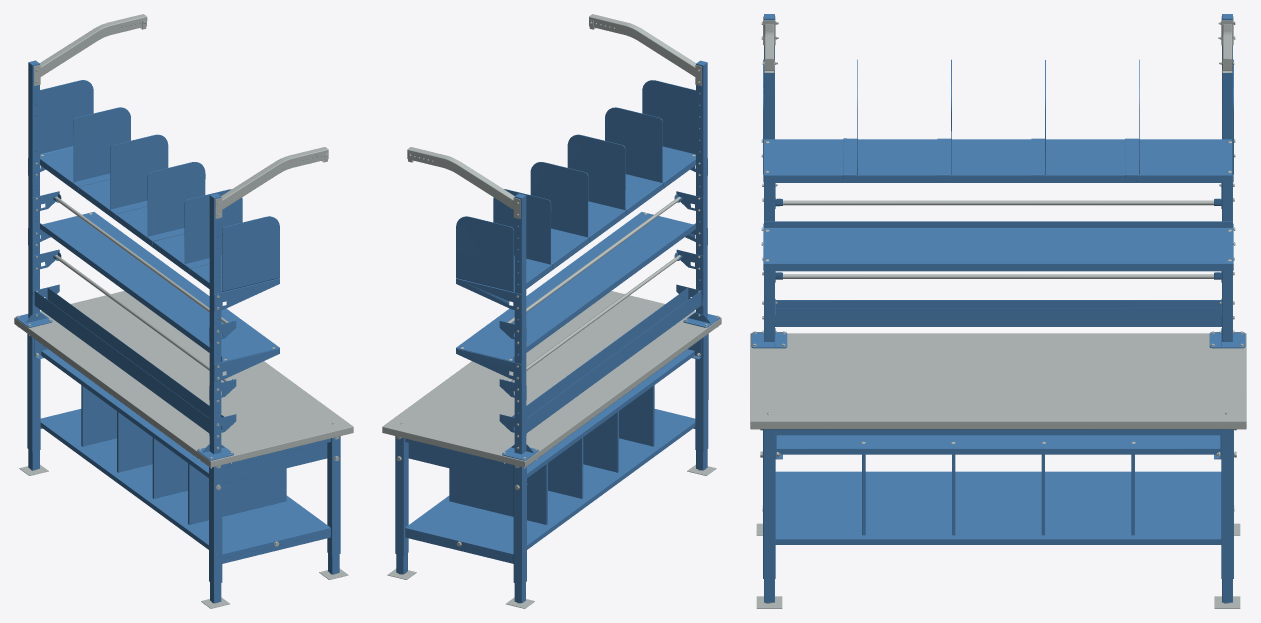
The model's file is table_metal_a02.glb.
The picture shows the model from 3 angles, left to right: view 1: azimuth 30°, elevation 25°; view 2: azimuth 150°, elevation 25°; view 3: azimuth 270°, elevation 25°; orthographic projection. The views are drawn at different scales.
Bounding box in the file's own units: 0.8665 × 2.48 × 2.06.
